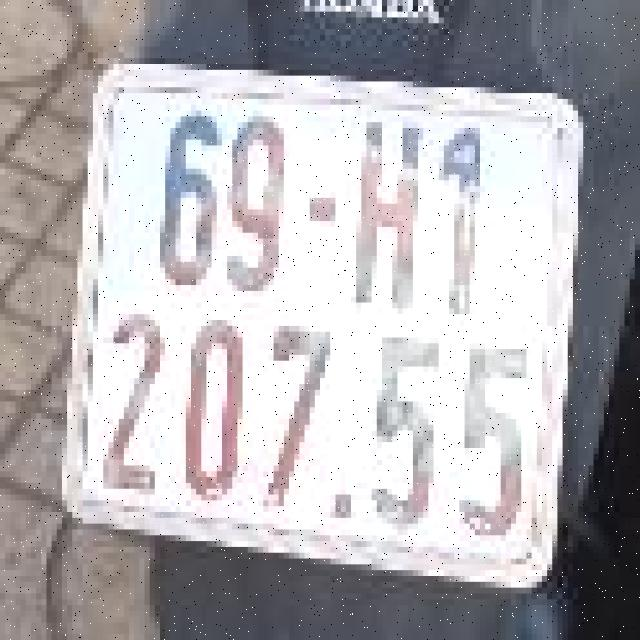0: (178, 308, 256, 518)
1: (431, 116, 493, 320)
2: (93, 303, 170, 506)
5: (454, 332, 542, 558), (356, 317, 444, 538)
6: (147, 99, 219, 279)
7: (258, 317, 336, 515)
9: (224, 105, 292, 296)
H: (341, 93, 428, 314)
